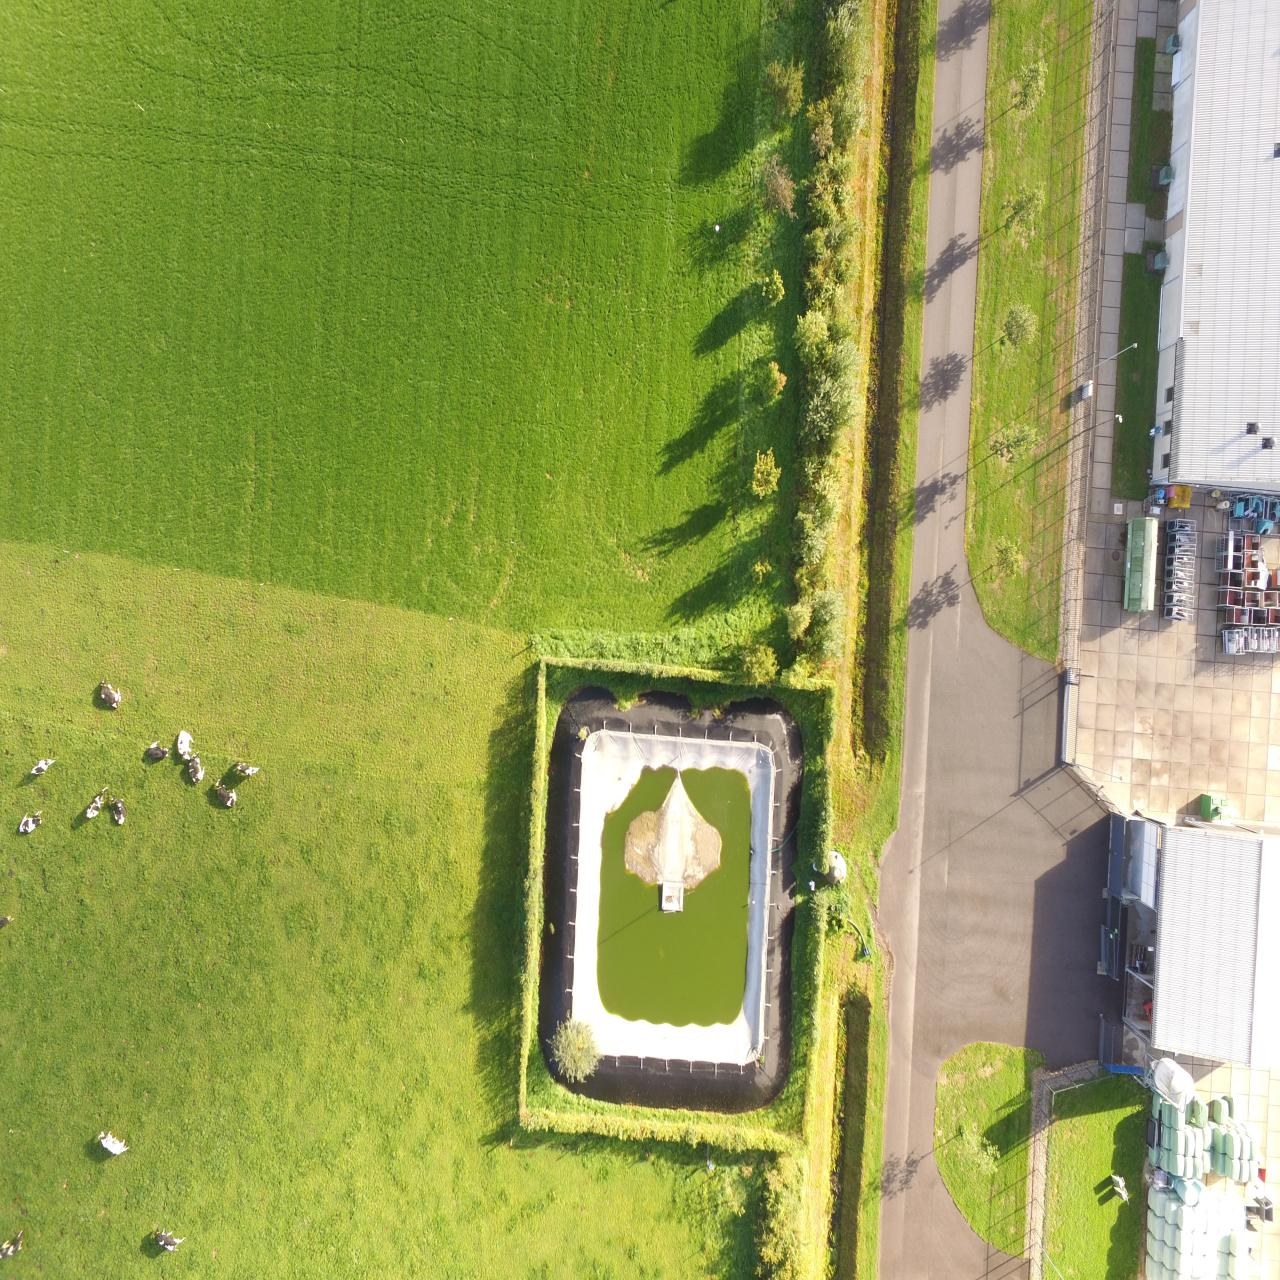cow: (89, 680, 123, 713), (142, 734, 173, 768), (15, 804, 46, 837), (212, 775, 240, 809), (83, 778, 104, 821), (183, 756, 210, 785), (27, 754, 57, 778), (170, 729, 193, 760), (108, 794, 128, 826), (233, 760, 259, 777)
